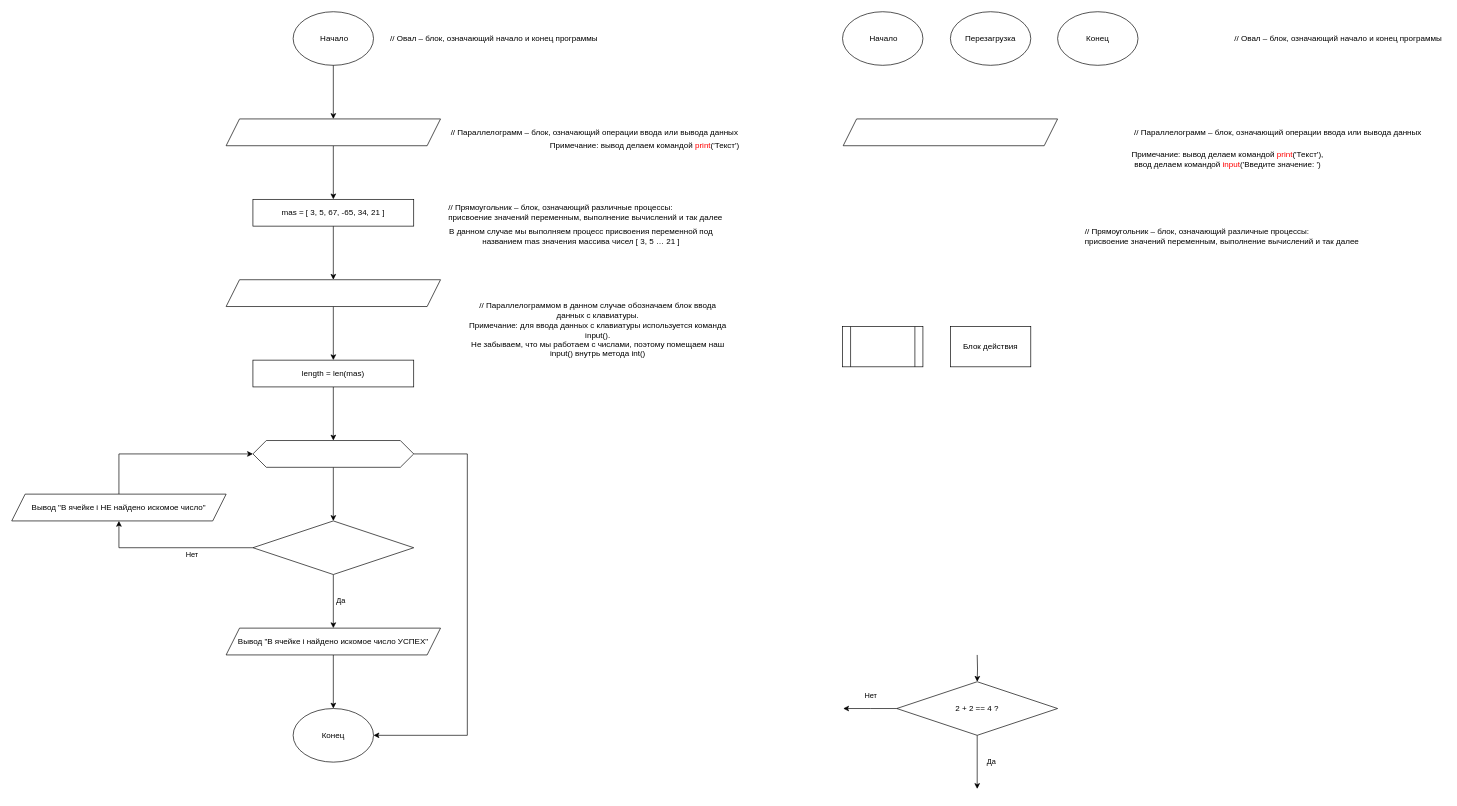
This 1457x806 diagram has some shape labels left out. Each missing label, with the centre of its shape:
i = 0; length; 1: (333,453)
mas[i] == point: (333,547)
Блок ввода / вывода данных: (950,132)
Блок процесса: (882,346)
Ввод point: (333,293)
Вывод "Добро пожаловать, бла-бла-бла": (333,132)
